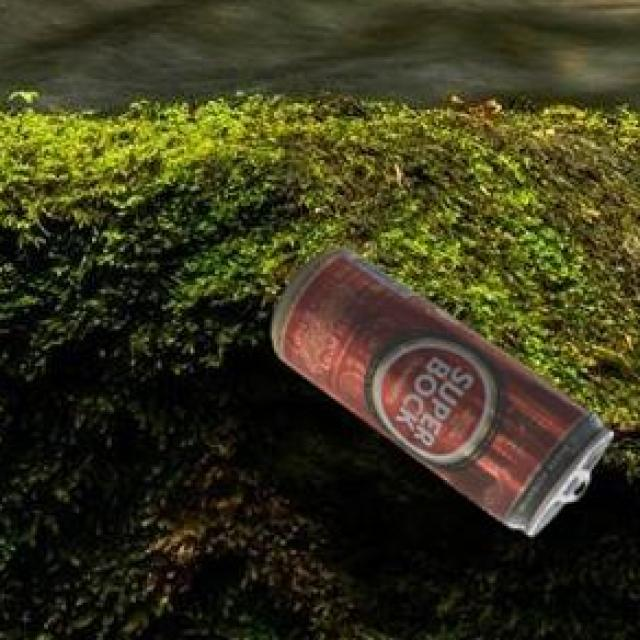logam: (268, 244, 610, 532)
